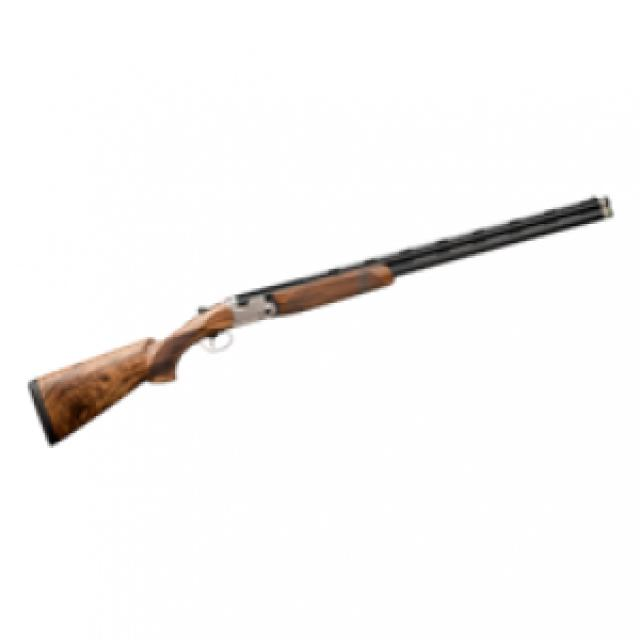rifle: (21, 192, 618, 456)
